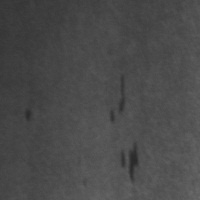inclusion: (107, 72, 133, 126), (117, 140, 142, 187), (20, 103, 36, 127)
